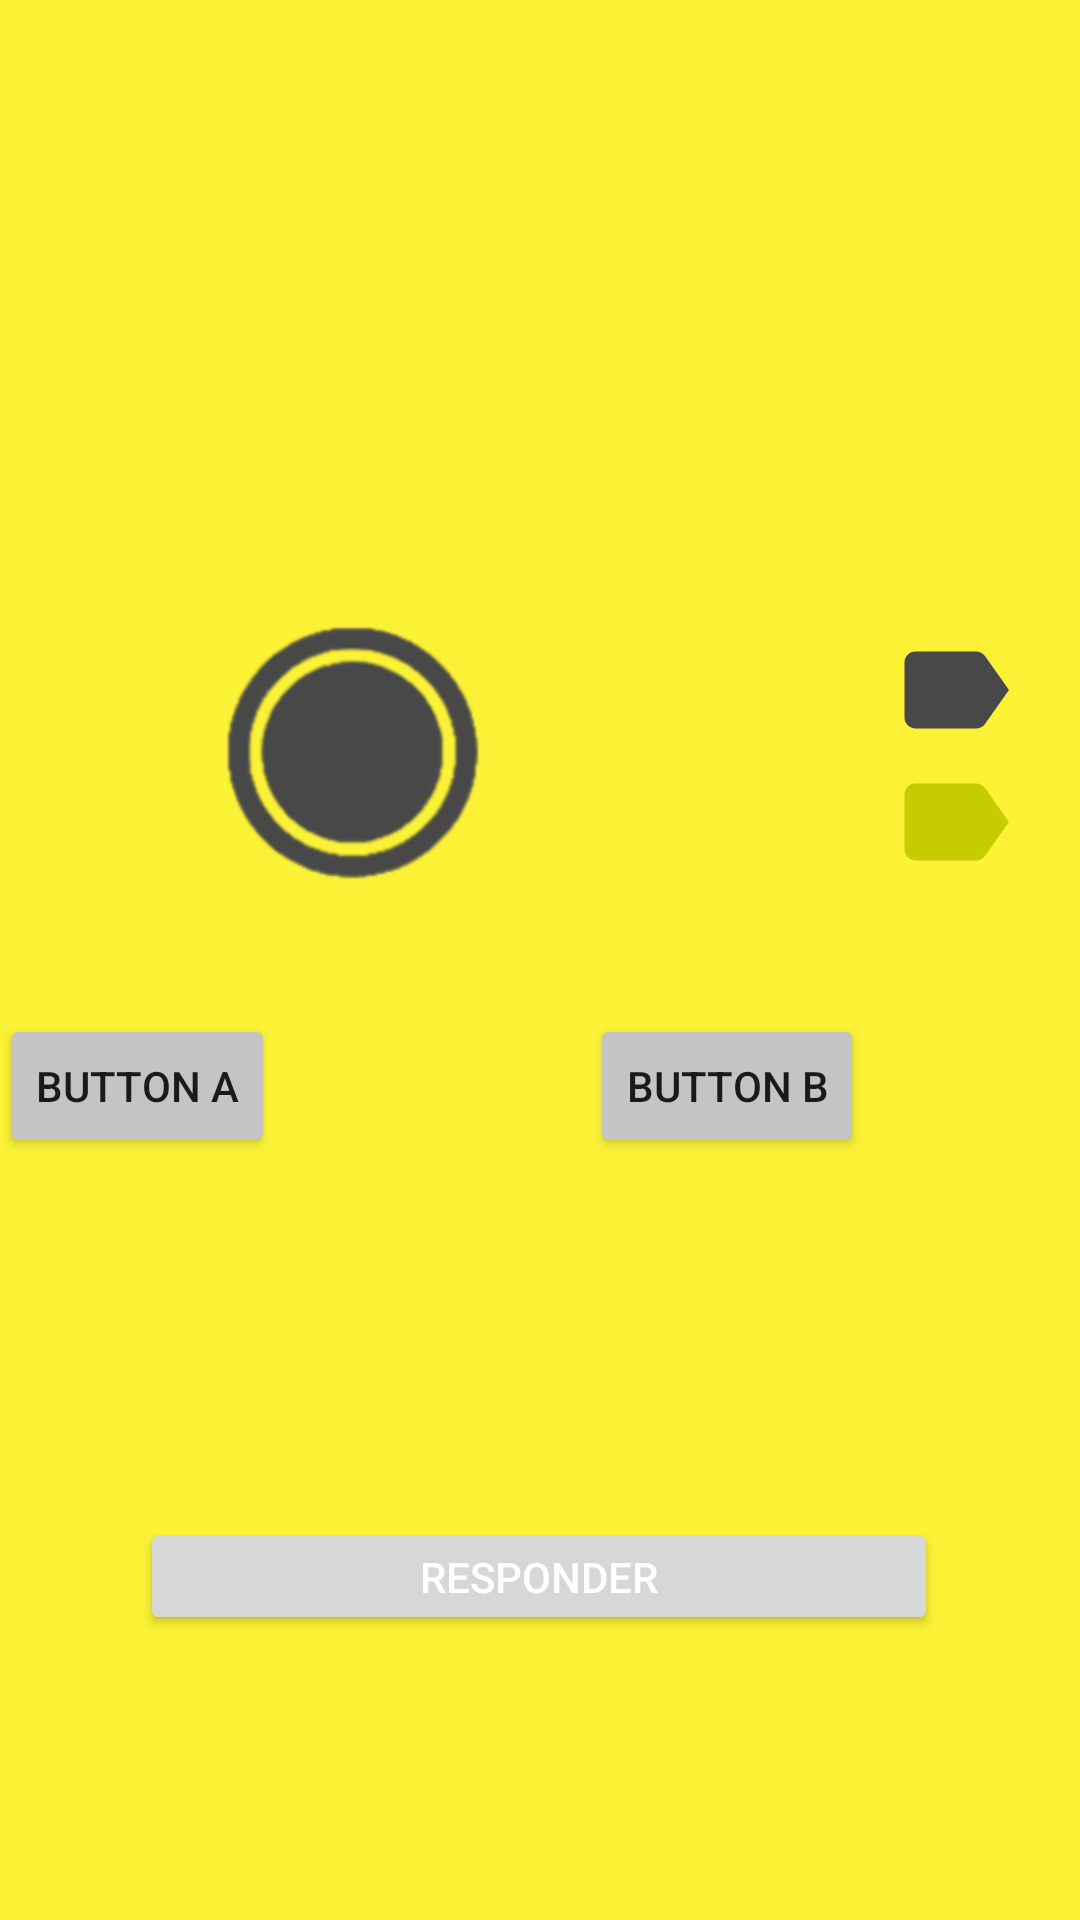

Where to tap for icons on this 1080 × 1920 app screen, as [x,y]:
label: [956,690]
label secondary: [956,822]
